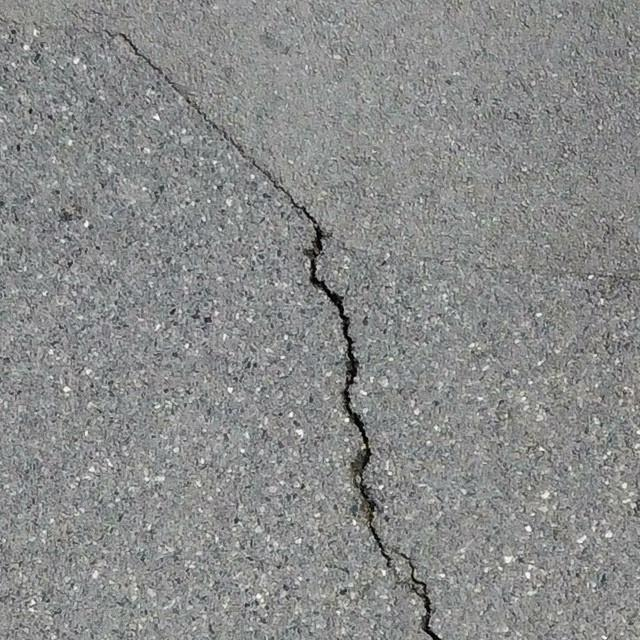LongitudinalCrack: (101, 22, 442, 640)
